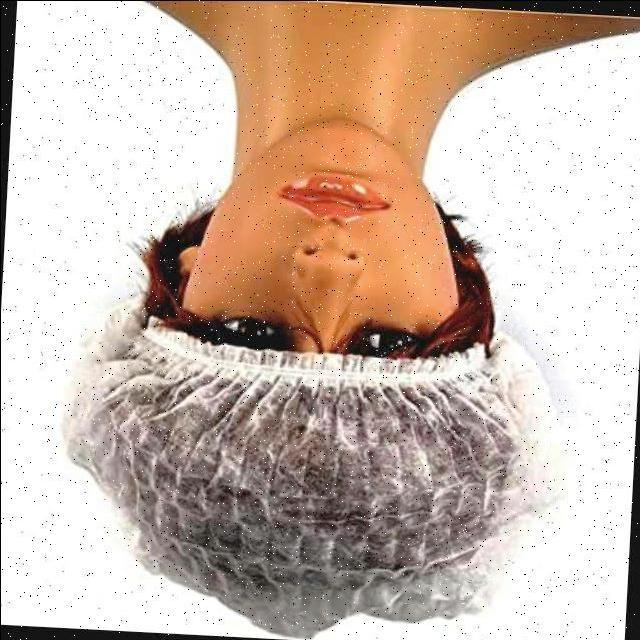gloves: (53, 334, 542, 608)
no_hairnet: (216, 133, 414, 317)
